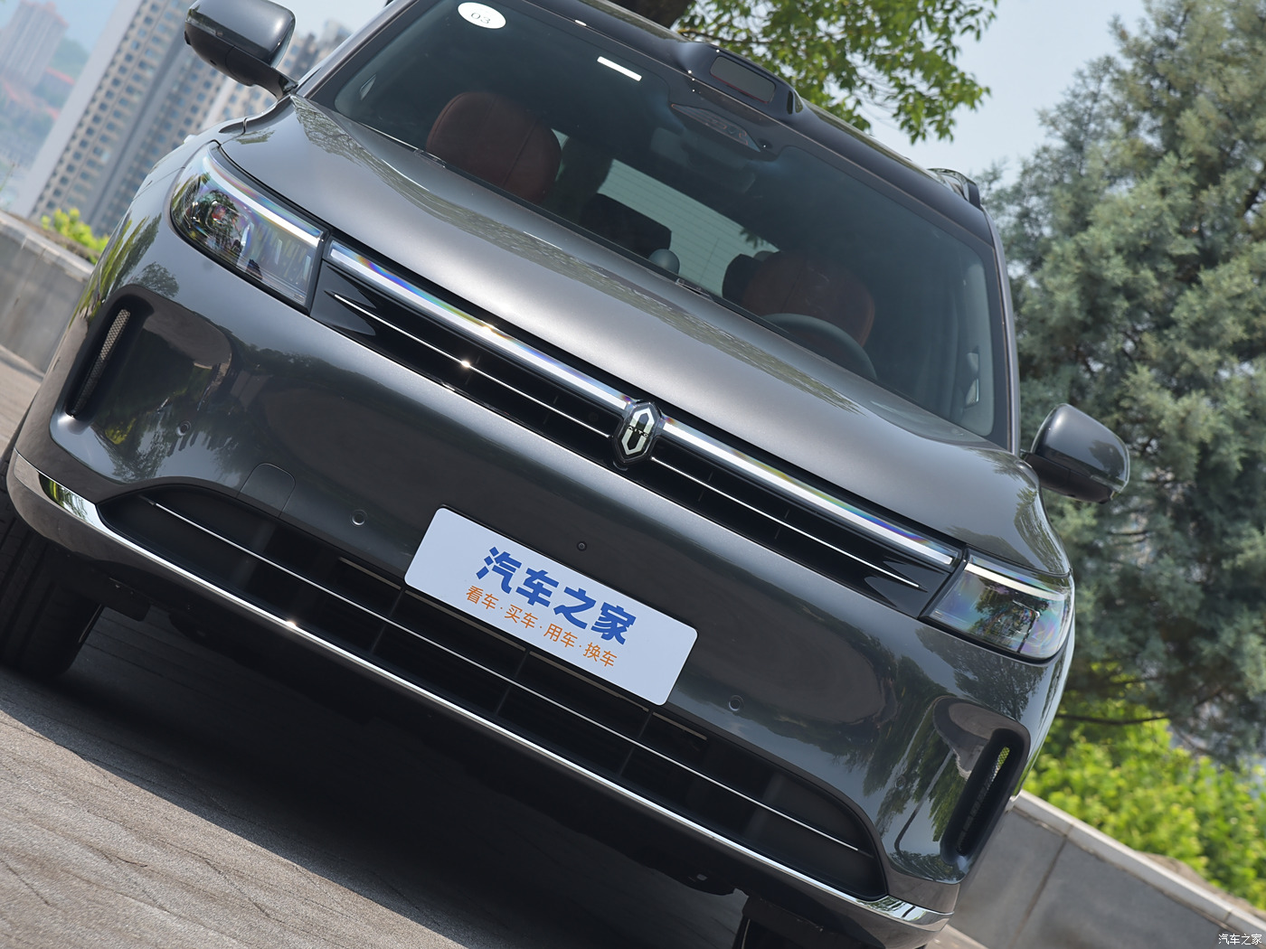AITO: (617, 401, 659, 459)
